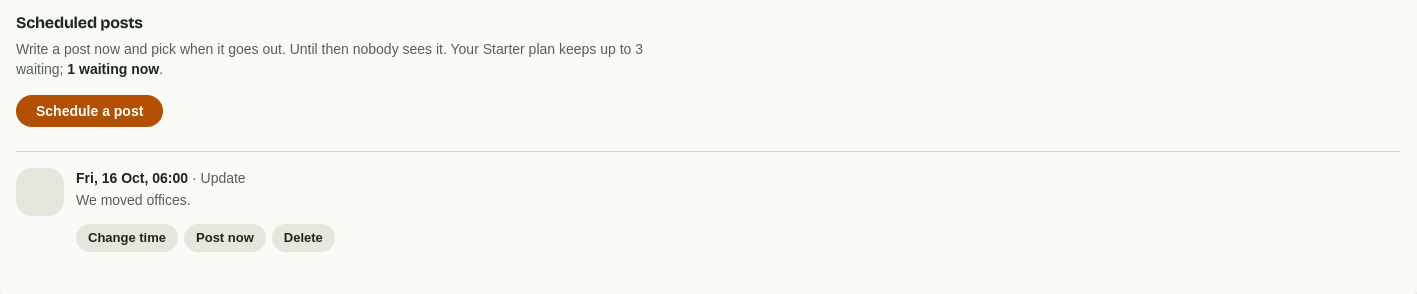
it: ScheduledPostsPanel › says so when a post could not be sent out
The width and height of the screenshot is (1417, 294).
Expected: the text "We moved offices." is shown, top-left (76, 192), bottom-right (191, 208)
Click the button "Post now": (225, 238) top-left (184, 224), bottom-right (266, 252)
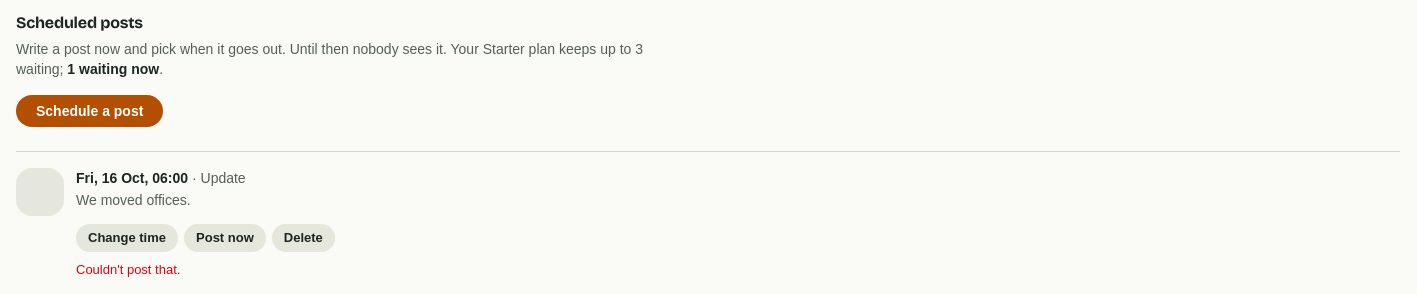
Expected: the text "Couldn't post that." is shown, top-left (76, 262), bottom-right (180, 276)
